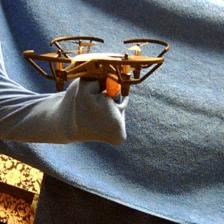drone: (21, 36, 170, 98)
